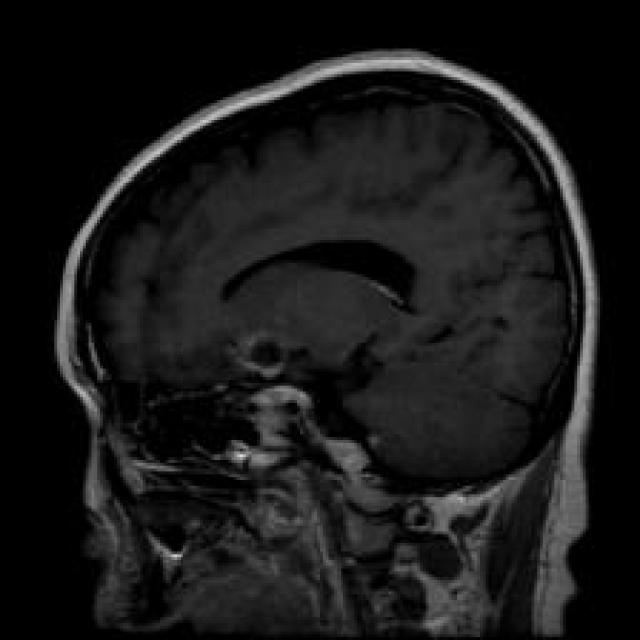pituitary_tumor: (225, 312, 324, 470)
